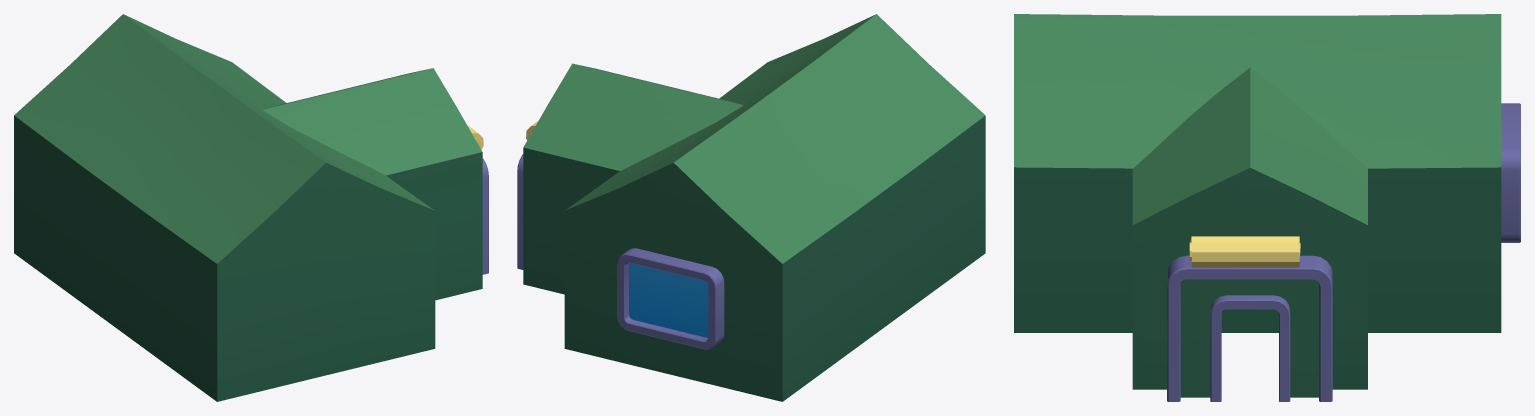
Rendered from military_house.fbx.
3 renders of one model, left to right at view 1: azimuth 30°, elevation 25°; view 2: azimuth 150°, elevation 25°; view 3: azimuth 270°, elevation 25°, orthographic. The views are drawn at different scales.
Visible parts, largest first — view 1: military_house; view 2: military_house; view 3: military_house.
Boxes of the visible parts, x1,y1,x2,y2 form: military_house: [14, 14, 488, 401]; military_house: [517, 14, 985, 401]; military_house: [1014, 14, 1520, 401].
Size of the model in its own units: 5 by 2.98 by 5.37.
